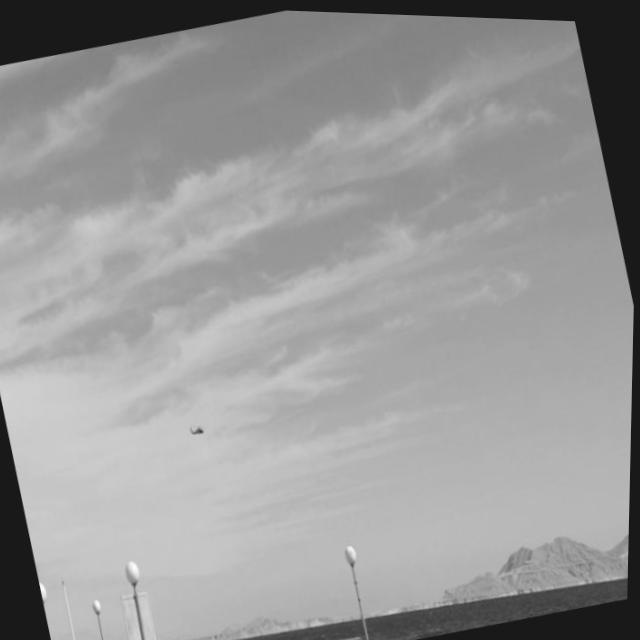helikopter: (171, 391, 230, 454)
